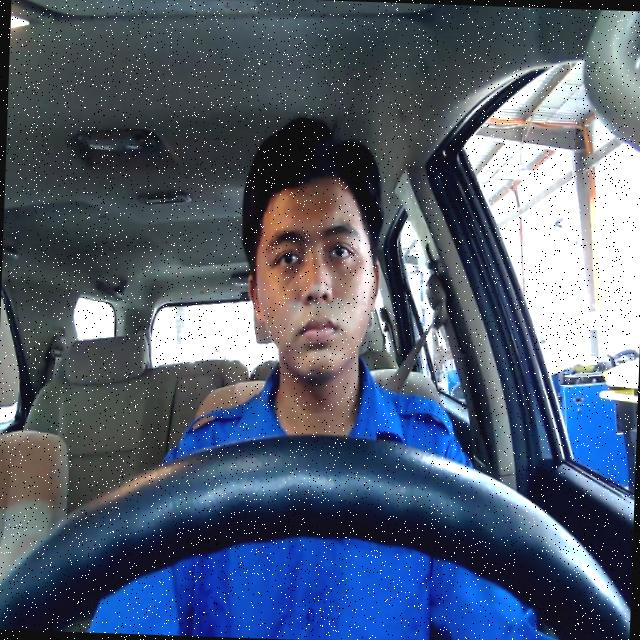focused: (244, 172, 384, 380)
